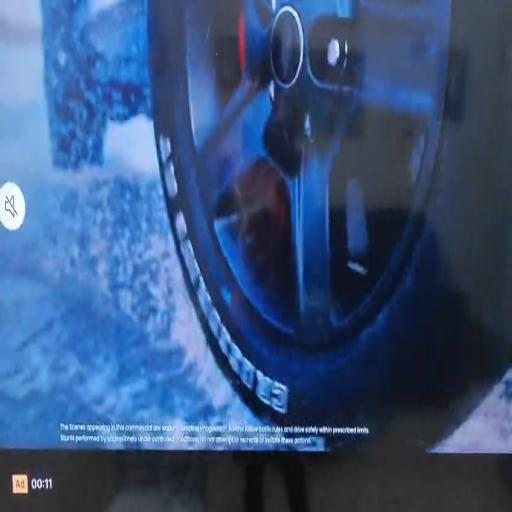ad label: (10, 470, 31, 500)
